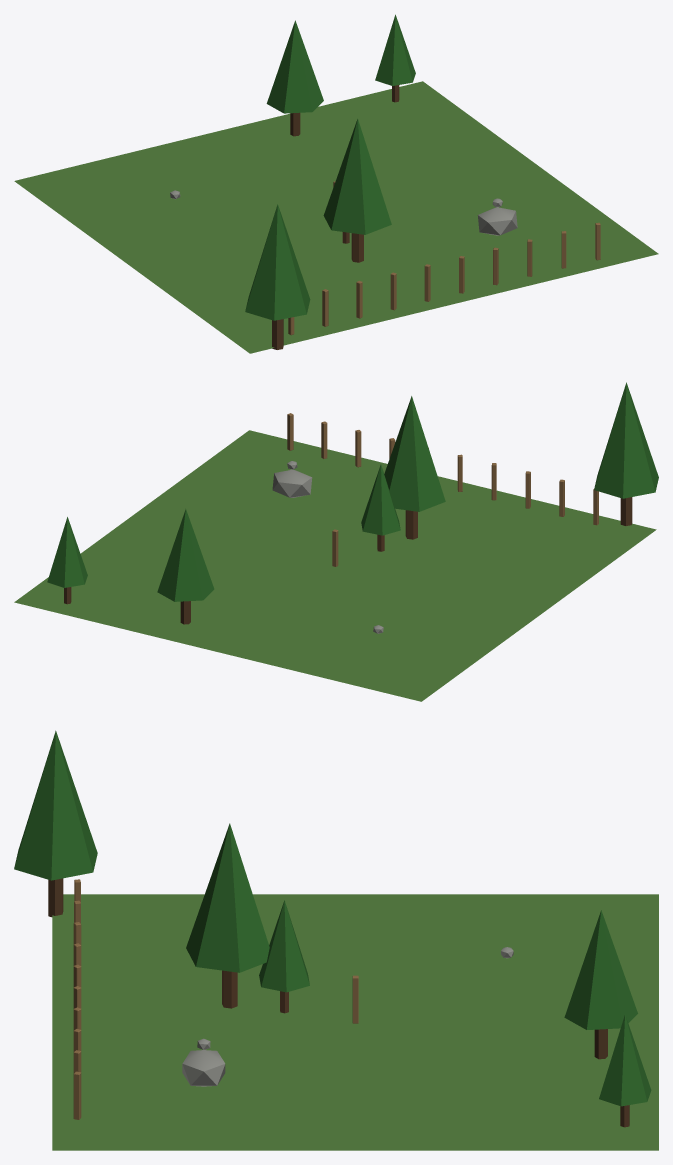
File: gen_forest_glade.mobile-low.glb
3 views of the same model, one above another, from view 1: azimuth 30°, elevation 25°; view 2: azimuth 150°, elevation 25°; view 3: azimuth 270°, elevation 25° (orthographic). The views are drawn at different scales.
Parts seen in each view (by area): view 1: Plane, tree_000, tree_004, tree_003, tree_002, Icosphere; view 2: Plane, tree_004, tree_000, tree_003, tree_001, tree_002, Icosphere; view 3: Plane, tree_000, tree_004, tree_003, tree_002, tree_001, Icosphere.
Boxes of the visible parts, x1=… form: Plane: x1=14, y1=81, x2=658, y2=353; tree_000: x1=323, y1=118, x2=391, y2=262; tree_004: x1=245, y1=204, x2=310, y2=349; tree_003: x1=266, y1=20, x2=323, y2=136; tree_002: x1=375, y1=14, x2=415, y2=102; Icosphere: x1=477, y1=207, x2=517, y2=235; Plane: x1=14, y1=430, x2=656, y2=701; tree_004: x1=594, y1=382, x2=658, y2=525; tree_000: x1=384, y1=396, x2=445, y2=539; tree_003: x1=157, y1=509, x2=214, y2=624; tree_001: x1=361, y1=464, x2=400, y2=551; tree_002: x1=47, y1=517, x2=87, y2=604; Icosphere: x1=272, y1=469, x2=312, y2=497; Plane: x1=52, y1=894, x2=658, y2=1150; tree_000: x1=186, y1=823, x2=269, y2=1008; tree_004: x1=14, y1=730, x2=97, y2=917; tree_003: x1=564, y1=910, x2=637, y2=1059; tree_002: x1=599, y1=1014, x2=651, y2=1127; tree_001: x1=259, y1=900, x2=309, y2=1013; Icosphere: x1=182, y1=1050, x2=225, y2=1086.
Bounding box in the file's own units: 12.05 × 4.03 × 12.76.
Materials: 1 (1 with a texture image).
